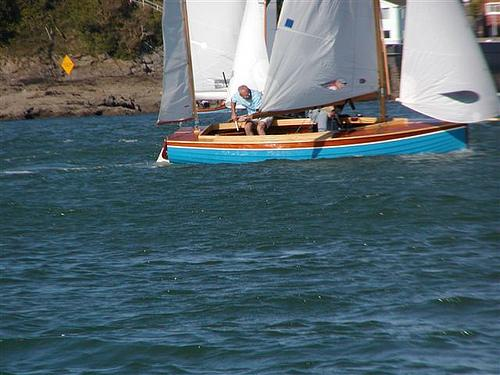Ship: (156, 1, 500, 164)
